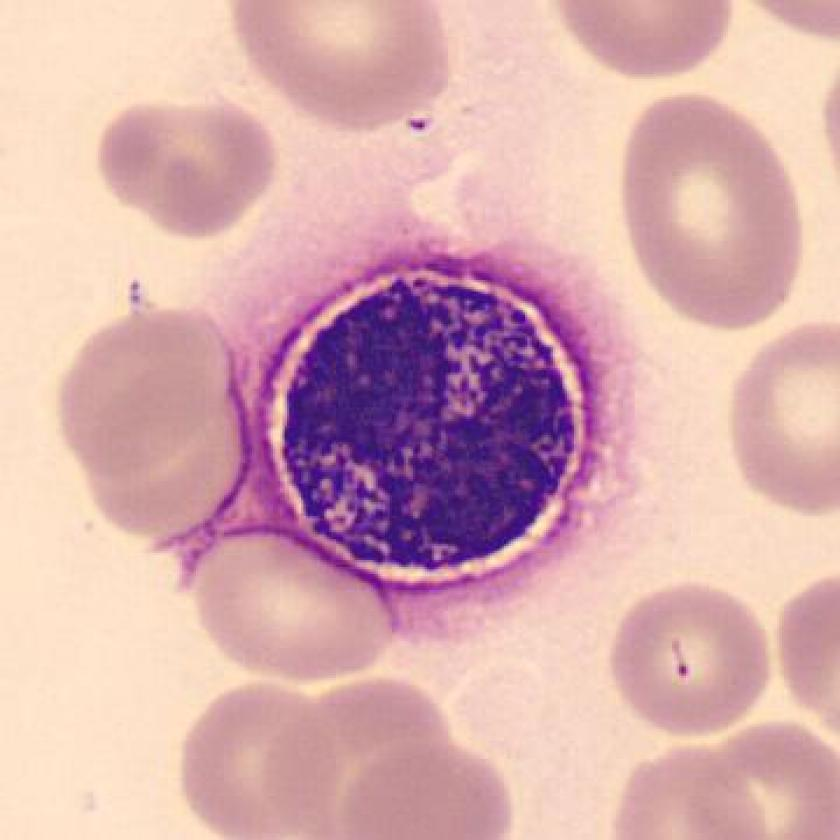basophil: (232, 233, 619, 615)
